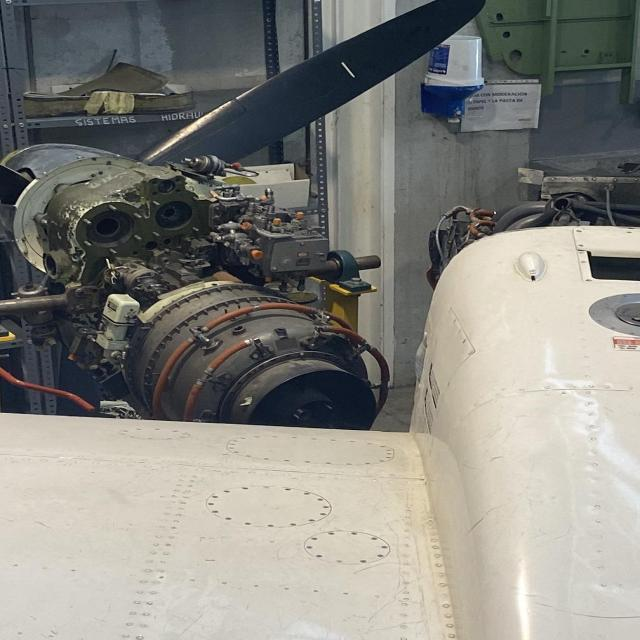Scratch: (530, 586, 640, 630), (572, 638, 626, 640)
